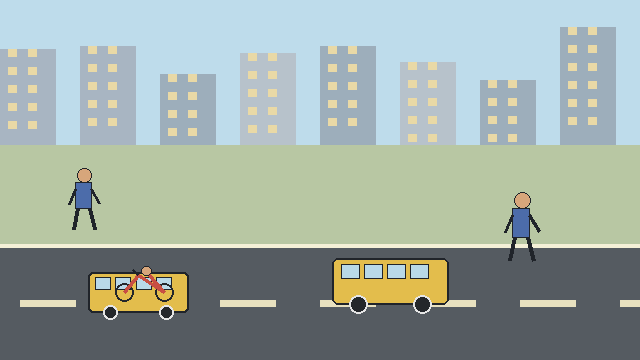bus: (332, 258, 448, 313), (88, 272, 188, 319)
motorcycle: (115, 266, 173, 301)
person: (505, 192, 541, 262), (69, 168, 101, 230)
